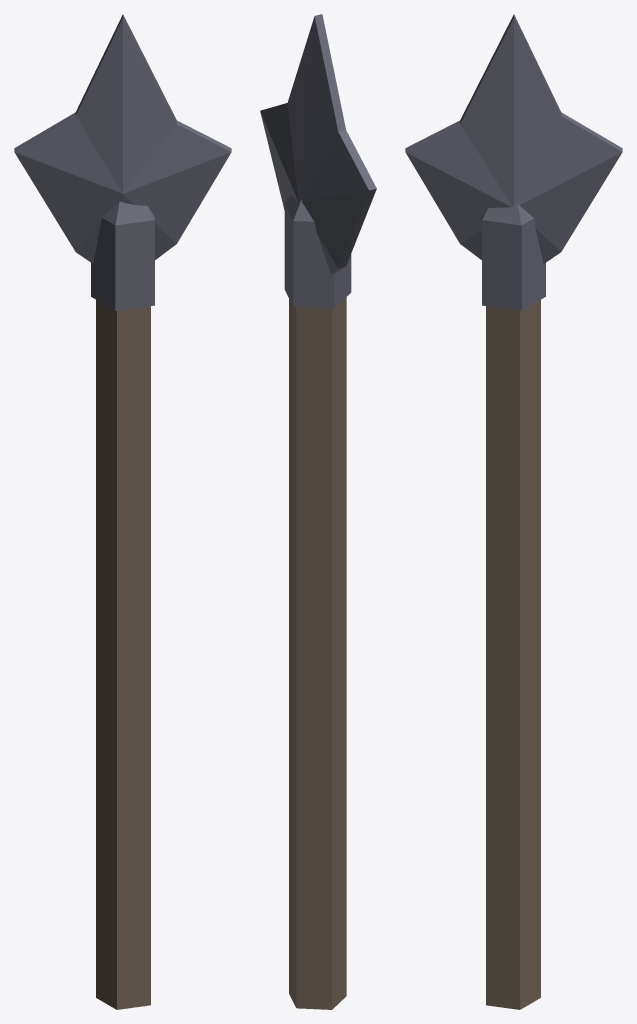
The model's file is Archer_shell_LVL_1.fbx.
3 views of the same model, side by side, from view 1: azimuth 90°, elevation 25°; view 2: azimuth 210°, elevation 25°; view 3: azimuth 270°, elevation 25° (orthographic).
Parts seen in each view (by area): view 1: Archer_tower_LVL_1; view 2: Archer_tower_LVL_1; view 3: Archer_tower_LVL_1.
Part boxes in pixels (left/top/right/bottom): Archer_tower_LVL_1: left=14, top=14, right=231, bottom=1009; Archer_tower_LVL_1: left=260, top=14, right=376, bottom=1009; Archer_tower_LVL_1: left=405, top=14, right=622, bottom=1009.
Bounding box in the file's own units: 13.5 × 218 × 43.81.
